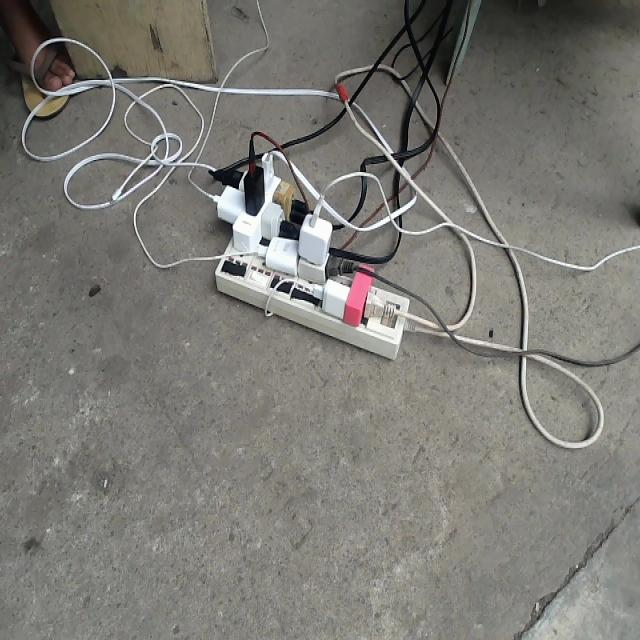-: (212, 130, 410, 362)
